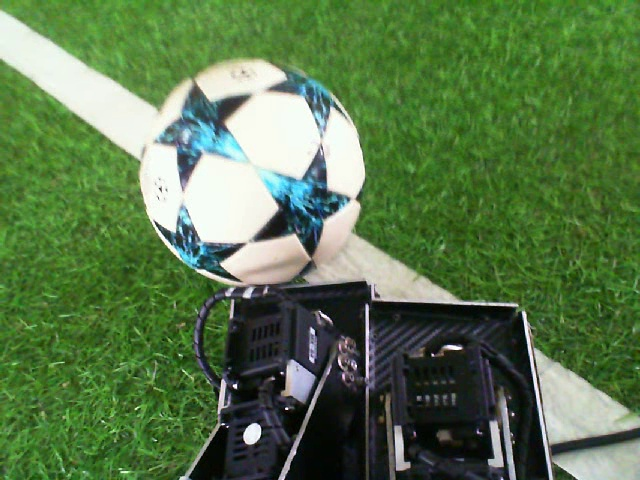ball: (138, 56, 367, 288)
